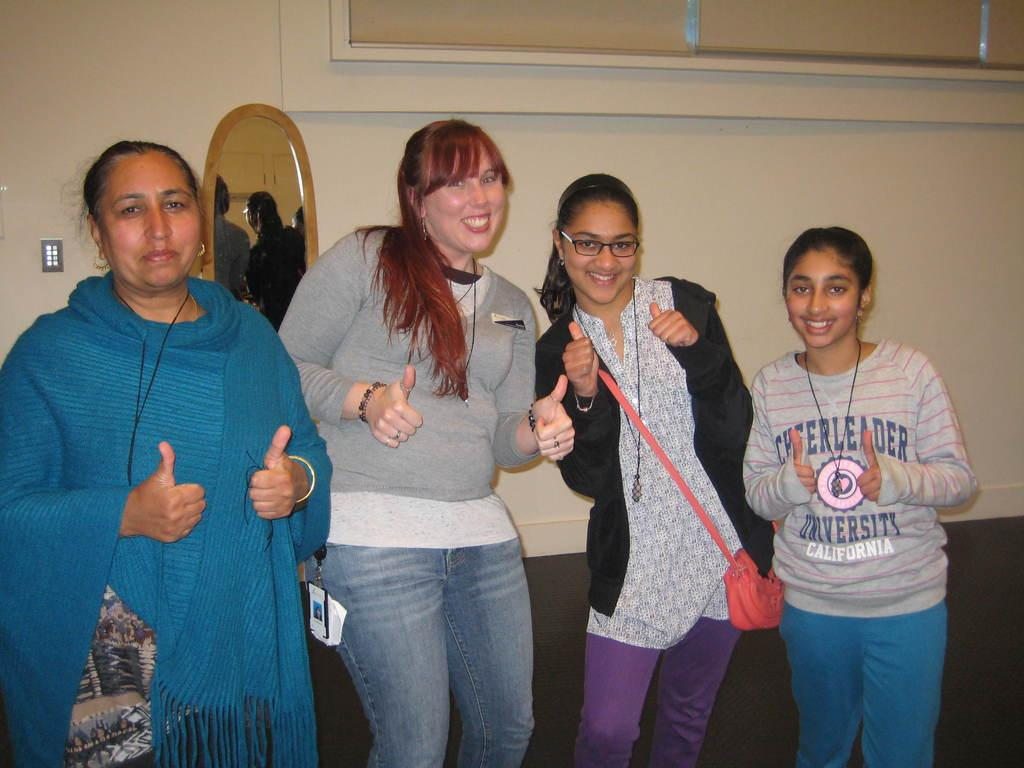Sem Máscara: (97, 155, 203, 291), (424, 146, 507, 252), (557, 202, 638, 301), (786, 246, 857, 342)
